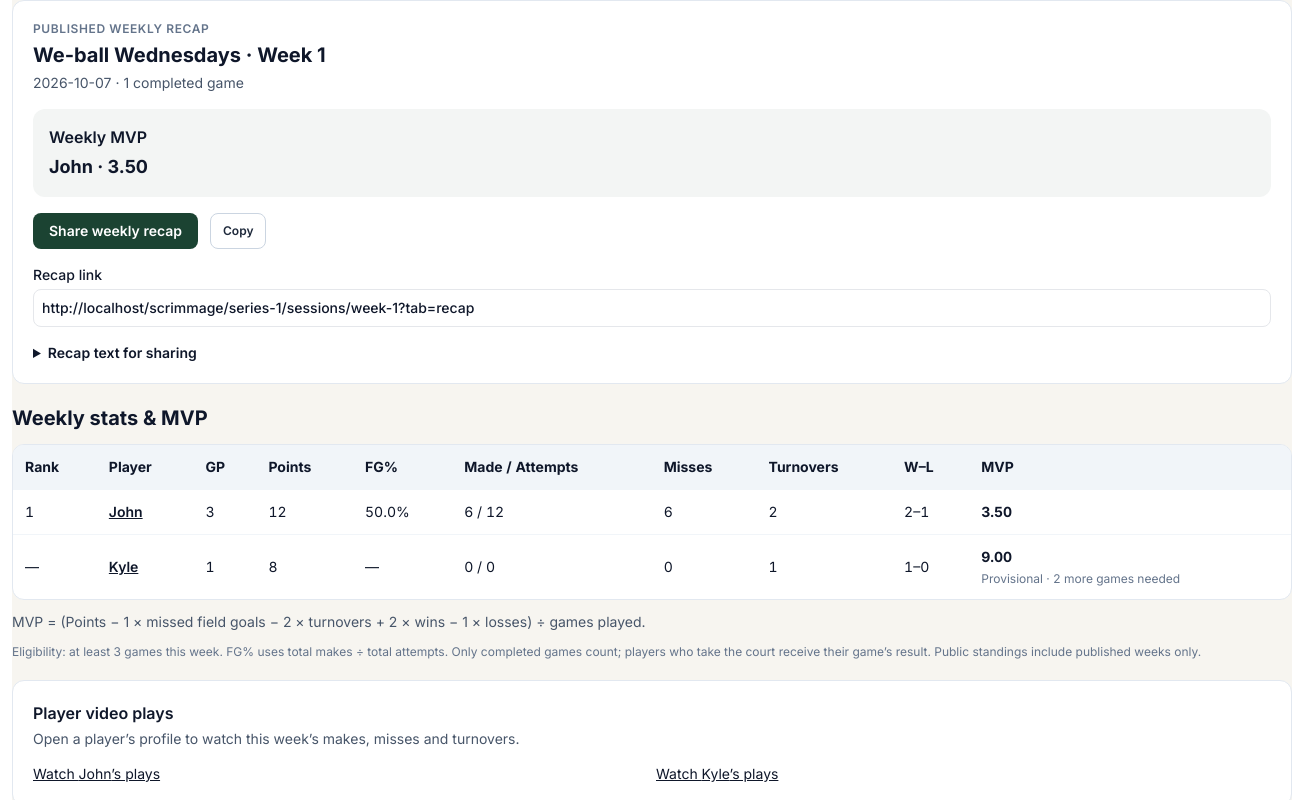
Scenario: does not share a week that has become unpublished
Click the button "Share weekly recap": (116,231) x1=33 y1=213 x2=198 y2=249
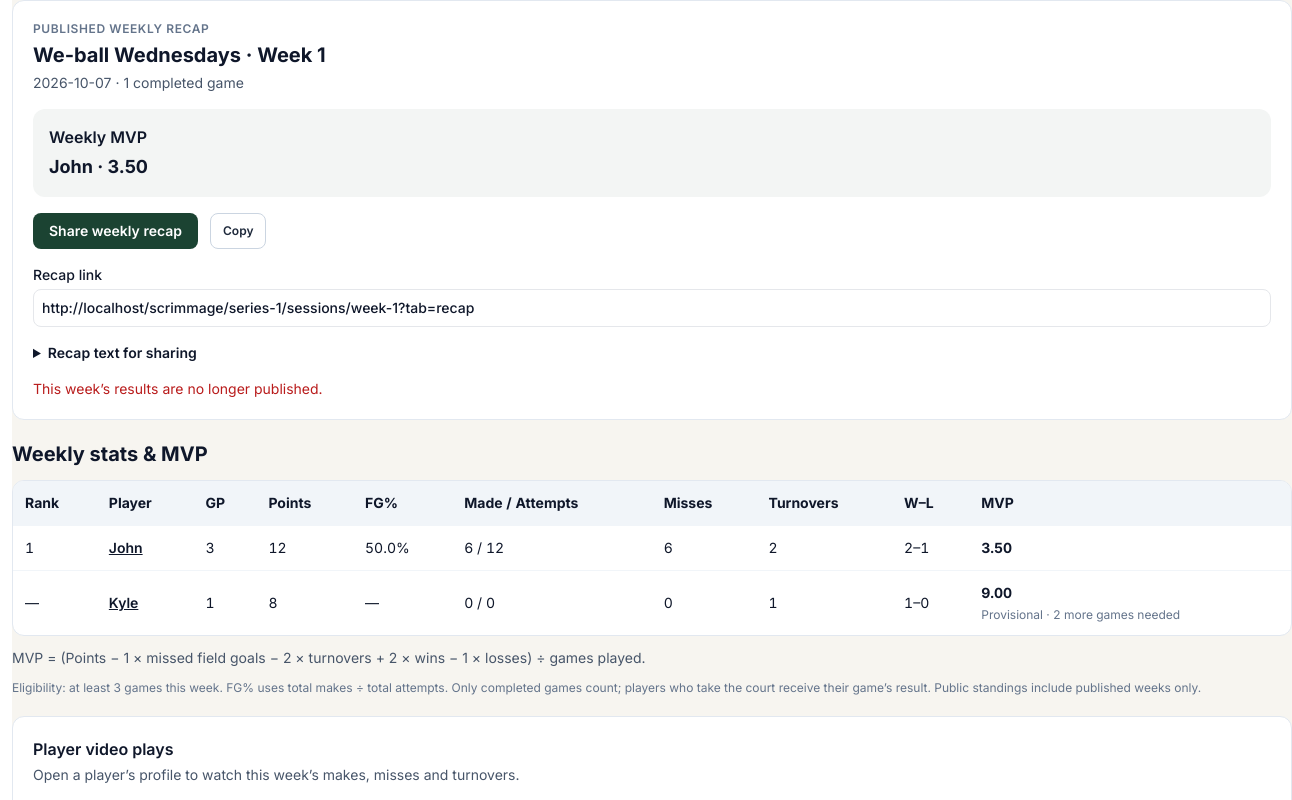
Expected: the message "This week’s results are no longer published." is shown, x1=33 y1=380 x2=323 y2=397
